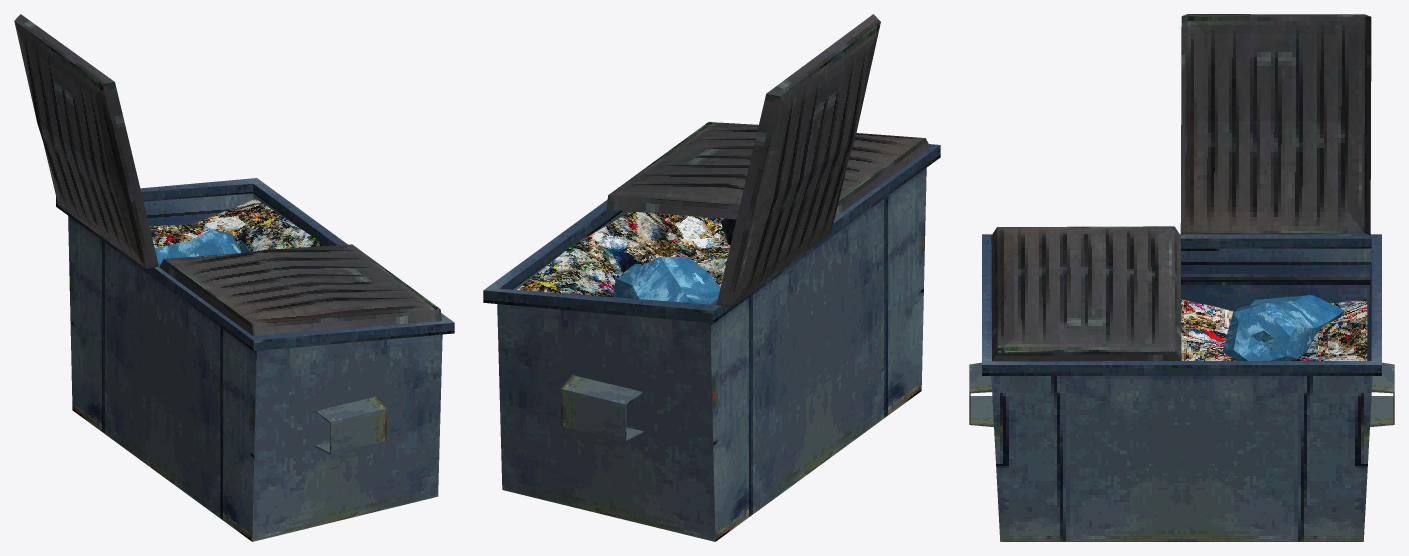
The model's file is dumpster_diagonal_full_open_blue.glb.
3 renders of one model, left to right at view 1: azimuth 30°, elevation 25°; view 2: azimuth 150°, elevation 25°; view 3: azimuth 270°, elevation 25°, orthographic. The views are drawn at different scales.
Visible parts, largest first — view 1: dumpster_diagonal_full_open_blue; view 2: dumpster_diagonal_full_open_blue; view 3: dumpster_diagonal_full_open_blue.
Boxes of the visible parts, x1,y1,x2,y2 form: dumpster_diagonal_full_open_blue: (14, 14, 454, 541); dumpster_diagonal_full_open_blue: (483, 14, 940, 541); dumpster_diagonal_full_open_blue: (969, 14, 1394, 541).
Bounding box in the file's own units: 2.53 × 3.91 × 3.67.
Materials: 3 (3 with a texture image).
